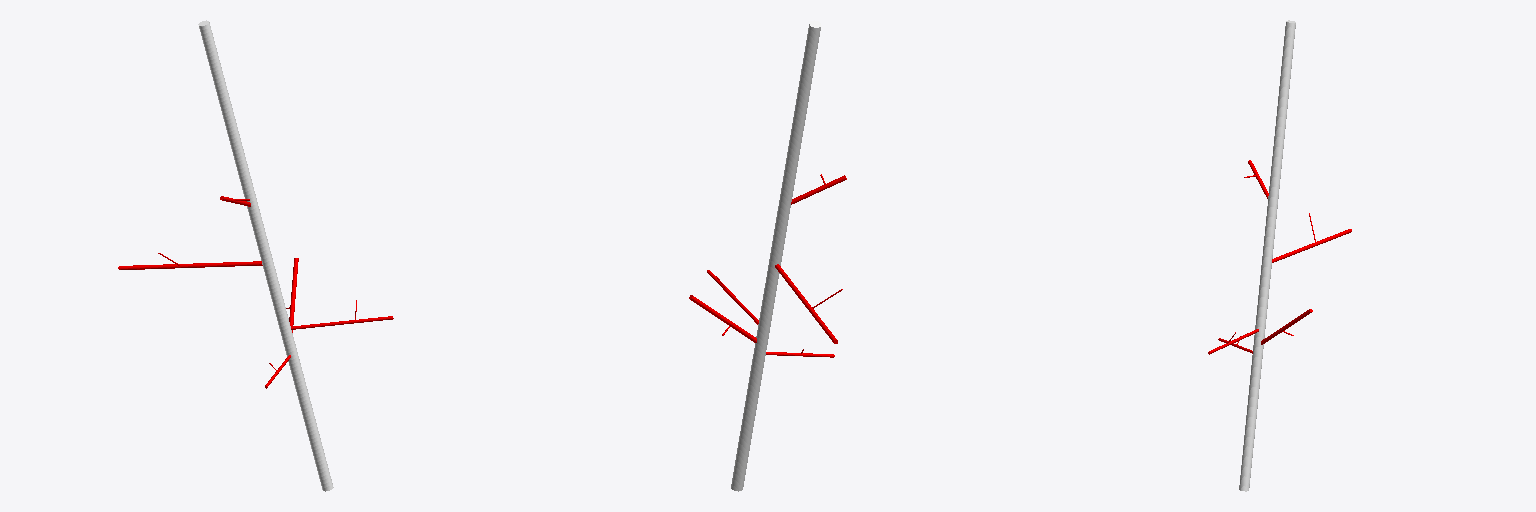
robot.urdf — tree_110.urdf:
<?xml version='1.0' encoding='UTF-8'?>
<robot name="tree_110.urdf">
  <link name="branch_0">
    <inertial>
      <origin xyz="0.0 0.0 0.0" rpy="0.0 -0.0 0.0"/>
      <mass value="0.1"/>
      <inertia ixx="0.001" ixy="0.0" ixz="0.0" iyy="0.001" iyz="0.0" izz="0.001"/>
    </inertial>
    <visual name="branch_0_visual">
      <geometry>
        <cylinder radius="0.10837110107479606" length="10.16740921798427"/>
      </geometry>
      <material name="branch_material"/>
      <origin xyz="-1.079653631236833 0.49464740124104484 4.943048101777938" rpy="0.0 0.235782310467751 2.711978760363434"/>
    </visual>
    <collision name="branch_0_collision">
      <geometry>
        <cylinder radius="0.10837110107479606" length="10.16740921798427"/>
      </geometry>
      <origin xyz="-1.079653631236833 0.49464740124104484 4.943048101777938" rpy="0.0 0.235782310467751 2.711978760363434"/>
    </collision>
  </link>
  <link name="branch_1">
    <inertial>
      <origin xyz="0.0 0.0 0.0" rpy="0.0 -0.0 0.0"/>
      <mass value="0.1"/>
      <inertia ixx="0.001" ixy="0.0" ixz="0.0" iyy="0.001" iyz="0.0" izz="0.001"/>
    </inertial>
    <visual name="branch_1_visual">
      <geometry>
        <cylinder radius="0.04239812054178307" length="1.2126251128697687"/>
      </geometry>
      <material name="semantic_material"/>
      <origin xyz="0.0 0.0 0.0" rpy="0.0 -0.0 0.0"/>
    </visual>
    <collision name="branch_1_collision">
      <geometry>
        <cylinder radius="0.04239812054178307" length="1.2126251128697687"/>
      </geometry>
      <origin xyz="0.0 0.0 0.0" rpy="0.0 -0.0 0.0"/>
    </collision>
  </link>
  <link name="branch_2">
    <inertial>
      <origin xyz="0.0 0.0 0.0" rpy="0.0 -0.0 0.0"/>
      <mass value="0.1"/>
      <inertia ixx="0.001" ixy="0.0" ixz="0.0" iyy="0.001" iyz="0.0" izz="0.001"/>
    </inertial>
    <visual name="branch_2_visual">
      <geometry>
        <cylinder radius="0.016033278758785647" length="0.3633709620193868"/>
      </geometry>
      <material name="semantic_material"/>
      <origin xyz="0.0 0.0 0.0" rpy="0.0 -0.0 0.0"/>
    </visual>
    <collision name="branch_2_collision">
      <geometry>
        <cylinder radius="0.016033278758785647" length="0.3633709620193868"/>
      </geometry>
      <origin xyz="0.0 0.0 0.0" rpy="0.0 -0.0 0.0"/>
    </collision>
  </link>
  <link name="branch_3">
    <inertial>
      <origin xyz="0.0 0.0 0.0" rpy="0.0 -0.0 0.0"/>
      <mass value="0.1"/>
      <inertia ixx="0.001" ixy="0.0" ixz="0.0" iyy="0.001" iyz="0.0" izz="0.001"/>
    </inertial>
    <visual name="branch_3_visual">
      <geometry>
        <cylinder radius="0.029682249506989614" length="1.3277099216403456"/>
      </geometry>
      <material name="semantic_material"/>
      <origin xyz="0.0 0.0 0.0" rpy="0.0 -0.0 0.0"/>
    </visual>
    <collision name="branch_3_collision">
      <geometry>
        <cylinder radius="0.029682249506989614" length="1.3277099216403456"/>
      </geometry>
      <origin xyz="0.0 0.0 0.0" rpy="0.0 -0.0 0.0"/>
    </collision>
  </link>
  <link name="branch_4">
    <inertial>
      <origin xyz="0.0 0.0 0.0" rpy="0.0 -0.0 0.0"/>
      <mass value="0.1"/>
      <inertia ixx="0.001" ixy="0.0" ixz="0.0" iyy="0.001" iyz="0.0" izz="0.001"/>
    </inertial>
    <visual name="branch_4_visual">
      <geometry>
        <cylinder radius="0.010077606901733226" length="0.2356287673624812"/>
      </geometry>
      <material name="semantic_material"/>
      <origin xyz="0.0 0.0 0.0" rpy="0.0 -0.0 0.0"/>
    </visual>
    <collision name="branch_4_collision">
      <geometry>
        <cylinder radius="0.010077606901733226" length="0.2356287673624812"/>
      </geometry>
      <origin xyz="0.0 0.0 0.0" rpy="0.0 -0.0 0.0"/>
    </collision>
  </link>
  <link name="branch_5">
    <inertial>
      <origin xyz="0.0 0.0 0.0" rpy="0.0 -0.0 0.0"/>
      <mass value="0.1"/>
      <inertia ixx="0.001" ixy="0.0" ixz="0.0" iyy="0.001" iyz="0.0" izz="0.001"/>
    </inertial>
    <visual name="branch_5_visual">
      <geometry>
        <cylinder radius="0.043279673222630384" length="1.7969754379745466"/>
      </geometry>
      <material name="semantic_material"/>
      <origin xyz="0.0 0.0 0.0" rpy="0.0 -0.0 0.0"/>
    </visual>
    <collision name="branch_5_collision">
      <geometry>
        <cylinder radius="0.043279673222630384" length="1.7969754379745466"/>
      </geometry>
      <origin xyz="0.0 0.0 0.0" rpy="0.0 -0.0 0.0"/>
    </collision>
  </link>
  <link name="branch_6">
    <inertial>
      <origin xyz="0.0 0.0 0.0" rpy="0.0 -0.0 0.0"/>
      <mass value="0.1"/>
      <inertia ixx="0.001" ixy="0.0" ixz="0.0" iyy="0.001" iyz="0.0" izz="0.001"/>
    </inertial>
    <visual name="branch_6_visual">
      <geometry>
        <cylinder radius="0.014848561188886417" length="0.2882372299820088"/>
      </geometry>
      <material name="semantic_material"/>
      <origin xyz="0.0 0.0 0.0" rpy="0.0 -0.0 0.0"/>
    </visual>
    <collision name="branch_6_collision">
      <geometry>
        <cylinder radius="0.014848561188886417" length="0.2882372299820088"/>
      </geometry>
      <origin xyz="0.0 0.0 0.0" rpy="0.0 -0.0 0.0"/>
    </collision>
  </link>
  <link name="branch_7">
    <inertial>
      <origin xyz="0.0 0.0 0.0" rpy="0.0 -0.0 0.0"/>
      <mass value="0.1"/>
      <inertia ixx="0.001" ixy="0.0" ixz="0.0" iyy="0.001" iyz="0.0" izz="0.001"/>
    </inertial>
    <visual name="branch_7_visual">
      <geometry>
        <cylinder radius="0.033321041298301504" length="2.0728018679755005"/>
      </geometry>
      <material name="semantic_material"/>
      <origin xyz="0.0 0.0 0.0" rpy="0.0 -0.0 0.0"/>
    </visual>
    <collision name="branch_7_collision">
      <geometry>
        <cylinder radius="0.033321041298301504" length="2.0728018679755005"/>
      </geometry>
      <origin xyz="0.0 0.0 0.0" rpy="0.0 -0.0 0.0"/>
    </collision>
  </link>
  <link name="branch_8">
    <inertial>
      <origin xyz="0.0 0.0 0.0" rpy="0.0 -0.0 0.0"/>
      <mass value="0.1"/>
      <inertia ixx="0.001" ixy="0.0" ixz="0.0" iyy="0.001" iyz="0.0" izz="0.001"/>
    </inertial>
    <visual name="branch_8_visual">
      <geometry>
        <cylinder radius="0.01" length="0.40736270867239954"/>
      </geometry>
      <material name="semantic_material"/>
      <origin xyz="0.0 0.0 0.0" rpy="0.0 -0.0 0.0"/>
    </visual>
    <collision name="branch_8_collision">
      <geometry>
        <cylinder radius="0.01" length="0.40736270867239954"/>
      </geometry>
      <origin xyz="0.0 0.0 0.0" rpy="0.0 -0.0 0.0"/>
    </collision>
  </link>
  <link name="branch_9">
    <inertial>
      <origin xyz="0.0 0.0 0.0" rpy="0.0 -0.0 0.0"/>
      <mass value="0.1"/>
      <inertia ixx="0.001" ixy="0.0" ixz="0.0" iyy="0.001" iyz="0.0" izz="0.001"/>
    </inertial>
    <visual name="branch_9_visual">
      <geometry>
        <cylinder radius="0.042104067664339745" length="2.8835997760035306"/>
      </geometry>
      <material name="semantic_material"/>
      <origin xyz="0.0 0.0 0.0" rpy="0.0 -0.0 0.0"/>
    </visual>
    <collision name="branch_9_collision">
      <geometry>
        <cylinder radius="0.042104067664339745" length="2.8835997760035306"/>
      </geometry>
      <origin xyz="0.0 0.0 0.0" rpy="0.0 -0.0 0.0"/>
    </collision>
  </link>
  <link name="branch_10">
    <inertial>
      <origin xyz="0.0 0.0 0.0" rpy="0.0 -0.0 0.0"/>
      <mass value="0.1"/>
      <inertia ixx="0.001" ixy="0.0" ixz="0.0" iyy="0.001" iyz="0.0" izz="0.001"/>
    </inertial>
    <visual name="branch_10_visual">
      <geometry>
        <cylinder radius="0.012809557655346892" length="0.7416404886618032"/>
      </geometry>
      <material name="semantic_material"/>
      <origin xyz="0.0 0.0 0.0" rpy="0.0 -0.0 0.0"/>
    </visual>
    <collision name="branch_10_collision">
      <geometry>
        <cylinder radius="0.012809557655346892" length="0.7416404886618032"/>
      </geometry>
      <origin xyz="0.0 0.0 0.0" rpy="0.0 -0.0 0.0"/>
    </collision>
  </link>
  <joint name="joint_0_1" type="fixed">
    <parent link="branch_0"/>
    <child link="branch_1"/>
    <axis xyz="1. 0. 0."/>
    <origin xyz="-1.7930853038083026 0.35850288372536 6.306329883503365" rpy="0.4038847778662647 1.038736863647327 -2.2083107216585396"/>
  </joint>
  <joint name="joint_0_3" type="fixed">
    <parent link="branch_0"/>
    <child link="branch_3"/>
    <axis xyz="1. 0. 0."/>
    <origin xyz="-1.1487279963180732 -0.11746699356551465 2.8020691824963326" rpy="2.038028571200028 1.338024302279168 -0.4545596193432419"/>
  </joint>
  <joint name="joint_0_5" type="fixed">
    <parent link="branch_0"/>
    <child link="branch_5"/>
    <axis xyz="1. 0. 0."/>
    <origin xyz="-0.2743349981010923 0.8600989714890626 3.6502173386556365" rpy="-0.32112623242974303 0.8106766947253015 0.5212121530154941"/>
  </joint>
  <joint name="joint_0_7" type="fixed">
    <parent link="branch_0"/>
    <child link="branch_7"/>
    <axis xyz="1. 0. 0."/>
    <origin xyz="0.13249847947209972 -0.2009371725265592 3.527880792786911" rpy="0.22324567317354763 1.4398911381337576 -0.32884623253211015"/>
  </joint>
  <joint name="joint_0_9" type="fixed">
    <parent link="branch_0"/>
    <child link="branch_9"/>
    <axis xyz="1. 0. 0."/>
    <origin xyz="-2.1757189423915517 1.3635759841315427 4.644161888722551" rpy="-2.648581611275245 1.4554549712648754 -0.16842397375718426"/>
  </joint>
  <joint name="joint_1_2" type="fixed">
    <parent link="branch_0"/>
    <child link="branch_2"/>
    <axis xyz="1. 0. 0."/>
    <origin xyz="-1.837148851210488 0.14283550846388504 6.436034333114249" rpy="1.3732778966898849 0.5249298063676479 0.6558257713901681"/>
  </joint>
  <joint name="joint_3_4" type="fixed">
    <parent link="branch_0"/>
    <child link="branch_4"/>
    <axis xyz="1. 0. 0."/>
    <origin xyz="-1.2595496457502164 -0.10844055007001299 2.8841918961826685" rpy="-0.7020189661242905 -0.17197344217297522 0.7173836565367671"/>
  </joint>
  <joint name="joint_5_6" type="fixed">
    <parent link="branch_0"/>
    <child link="branch_6"/>
    <axis xyz="1. 0. 0."/>
    <origin xyz="-0.32082977408602115 0.9074693279556136 3.5019942865790723" rpy="2.426703272820348 0.9847693785114653 -2.4734472890908155"/>
  </joint>
  <joint name="joint_7_8" type="fixed">
    <parent link="branch_0"/>
    <child link="branch_8"/>
    <axis xyz="1. 0. 0."/>
    <origin xyz="0.4587918279010591 -0.26977128836636394 3.7367353140475714" rpy="0.5893112349348726 0.017251038630611677 2.513283167254146"/>
  </joint>
  <joint name="joint_9_10" type="fixed">
    <parent link="branch_0"/>
    <child link="branch_10"/>
    <axis xyz="1. 0. 0."/>
    <origin xyz="-2.648806877562414 1.4422611058294952 4.850431565053261" rpy="0.8260365187853311 -0.403711703304532 -0.9733936964364319"/>
  </joint>
  <material name="branch_material">
    <color rgba="1. 1. 1. 1."/>
  </material>
  <material name="semantic_material">
    <color rgba="1. 0. 0. 1."/>
  </material>
</robot>

--- What the picture shows (computed from the rendered views, not written in the file) ---
The picture shows the robot from 3 angles, left to right: view 1: azimuth 30°, elevation 25°; view 2: azimuth 150°, elevation 25°; view 3: azimuth 270°, elevation 25°; orthographic projection.
Robot: tree_110.urdf — 11 links, 10 joints (10 fixed); root link branch_0; default pose: all joints at 0.
Visible links, largest first — view 1: branch_0, branch_9; view 2: branch_0; view 3: branch_0.
Link boxes in pixels (<box>): branch_0: <box>198,20,333,491</box>; branch_9: <box>118,261,262,269</box>; branch_0: <box>731,20,820,491</box>; branch_0: <box>1239,20,1295,491</box>.
Bounding box of the posed robot: 4.36 × 3.05 × 9.94 m (x, y, z).
Geometry: primitives only (box / cylinder / sphere), no mesh files.
